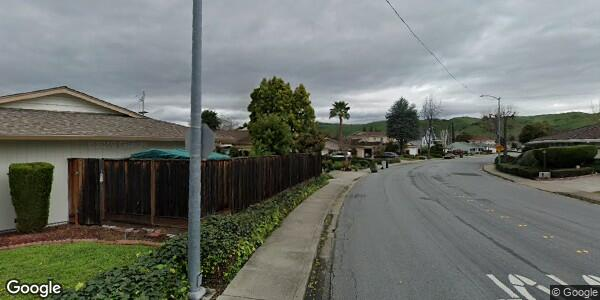Steel_Pole: (181, 1, 210, 298), (479, 93, 501, 168)
